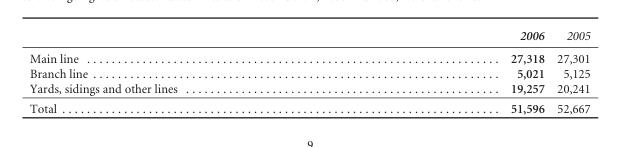table: (29, 28, 589, 115)
table column: (29, 28, 343, 115), (343, 28, 550, 115), (550, 28, 589, 115)
table column header: (29, 28, 589, 46)
table row: (29, 46, 589, 65), (29, 28, 589, 46), (29, 80, 589, 98), (29, 98, 589, 115), (29, 65, 589, 80)
